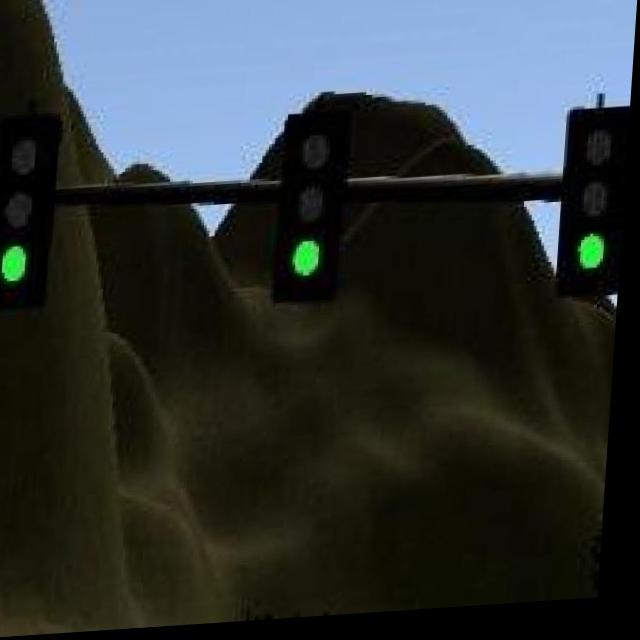green light: (280, 115, 350, 306), (562, 115, 632, 305), (0, 111, 65, 315)
